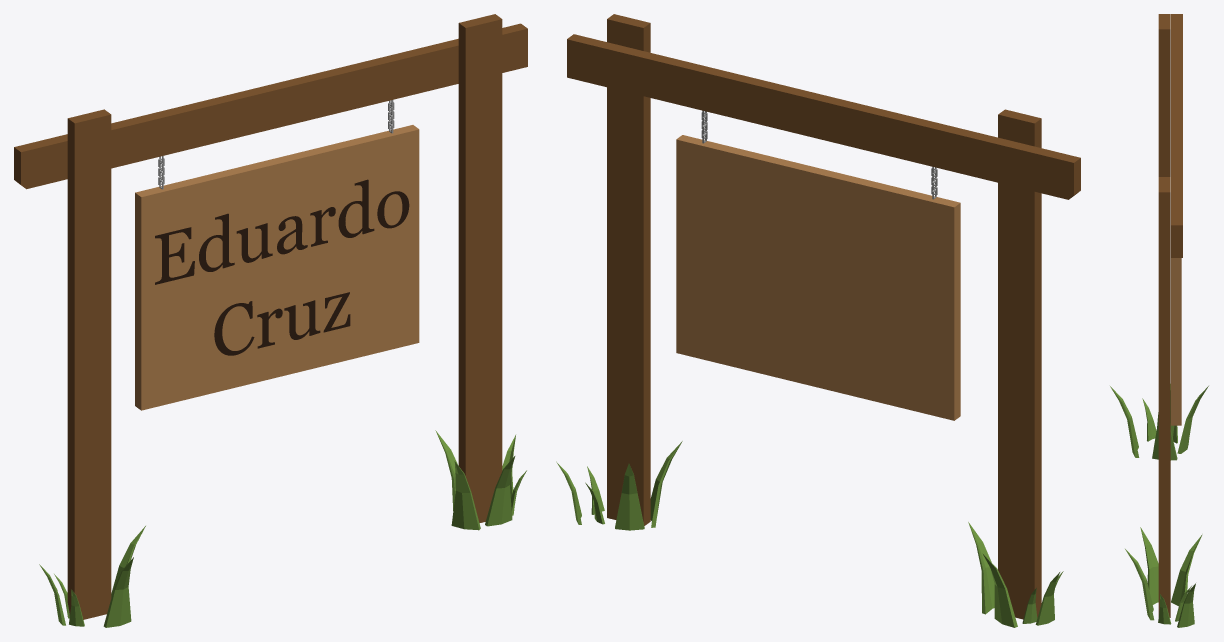
File: wooden_sign.glb
The picture shows the model from 3 angles, left to right: view 1: azimuth 30°, elevation 25°; view 2: azimuth 150°, elevation 25°; view 3: azimuth 270°, elevation 25°; orthographic projection. The views are drawn at different scales.
Visible parts, largest first — view 1: Sign, Text; view 2: Sign; view 3: Sign.
Boxes of the visible parts, box(x1,y1,x2,y2) form: Sign: box(14, 14, 527, 627); Text: box(155, 179, 409, 355); Sign: box(556, 14, 1080, 627); Sign: box(1110, 14, 1208, 627).
Size of the model in its own units: 20.58 by 19.24 by 4.11.
